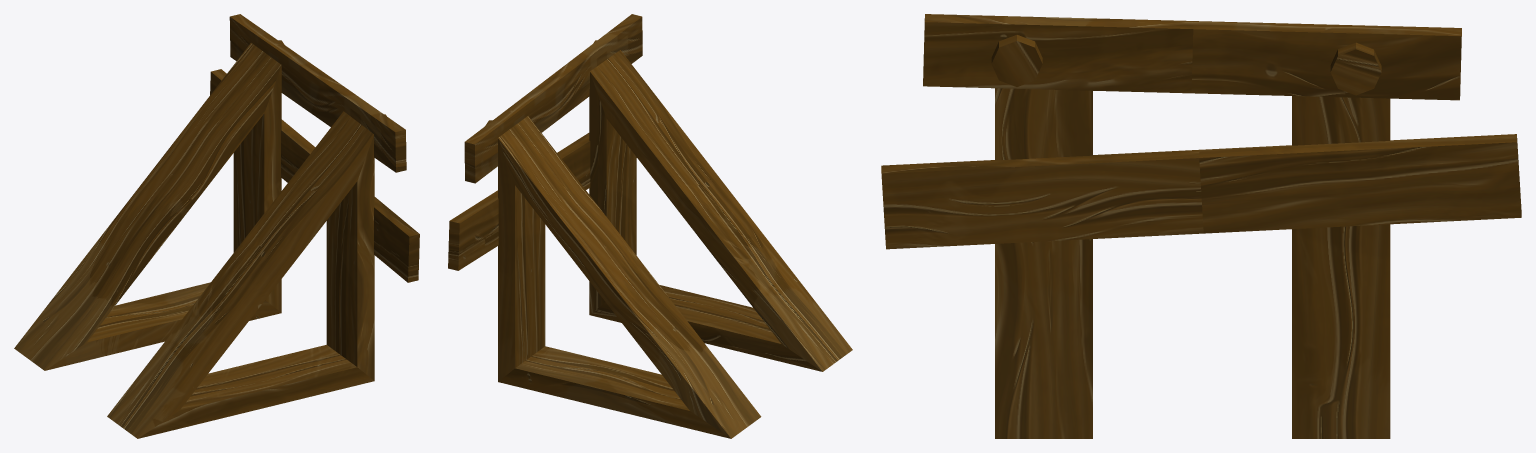
Rendered from CartStopNew.fbx.
3 views of the same model, side by side, from view 1: azimuth 30°, elevation 25°; view 2: azimuth 150°, elevation 25°; view 3: azimuth 270°, elevation 25° (orthographic). The views are drawn at different scales.
Parts seen in each view (by area): view 1: RailStop; view 2: RailStop; view 3: RailStop.
Part boxes in pixels (x1,y1,x2,y2): RailStop: (14,14,419,438); RailStop: (448,14,852,438); RailStop: (881,14,1521,438).
Bounding box in the file's own units: 2.17 × 2.92 × 2.14.
